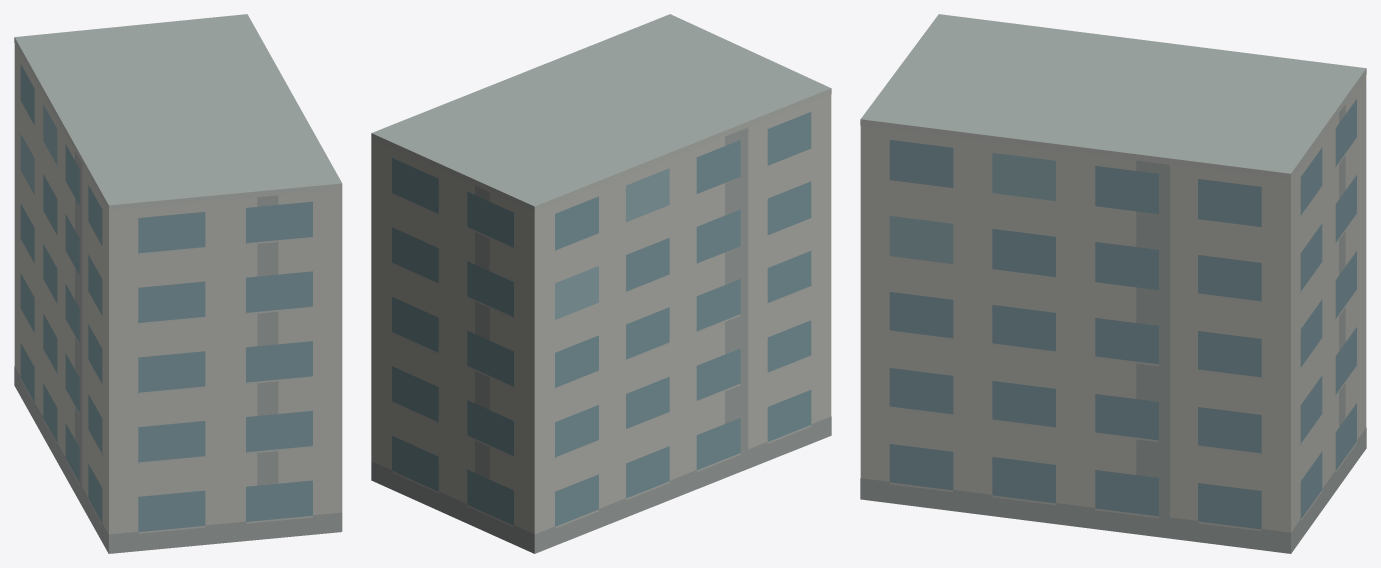
The model's file is survey-upis-32873554.glb.
3 renders of one model, left to right at view 1: azimuth 30°, elevation 25°; view 2: azimuth 150°, elevation 25°; view 3: azimuth 270°, elevation 25°, orthographic. The views are drawn at different scales.
Parts seen in each view (by area): view 1: survey-upis-32873554.tmp; view 2: survey-upis-32873554.tmp; view 3: survey-upis-32873554.tmp.
Part boxes in pixels (left/top/right/bottom): survey-upis-32873554.tmp: left=14, top=14, right=342, bottom=553; survey-upis-32873554.tmp: left=371, top=14, right=831, bottom=553; survey-upis-32873554.tmp: left=860, top=14, right=1366, bottom=553.
Size of the model in its own units: 12.99 by 14.4 by 17.38.
